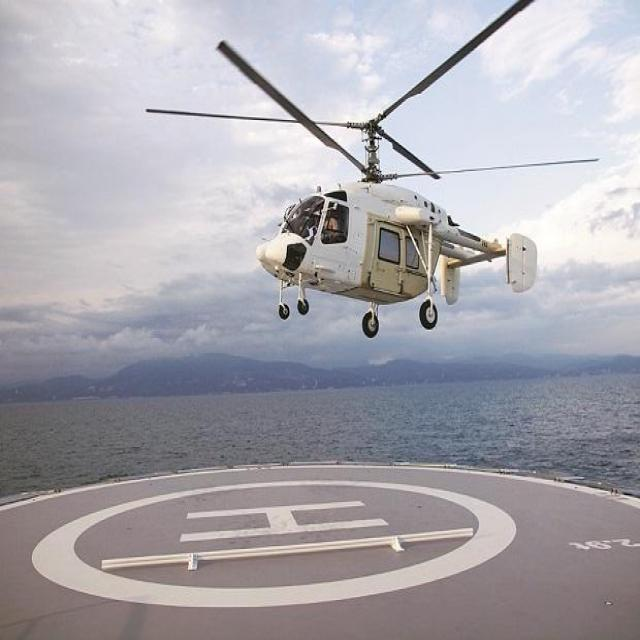helicopter: (158, 2, 590, 353)
